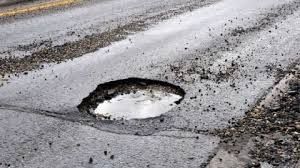potholes: (50, 27, 237, 168)
